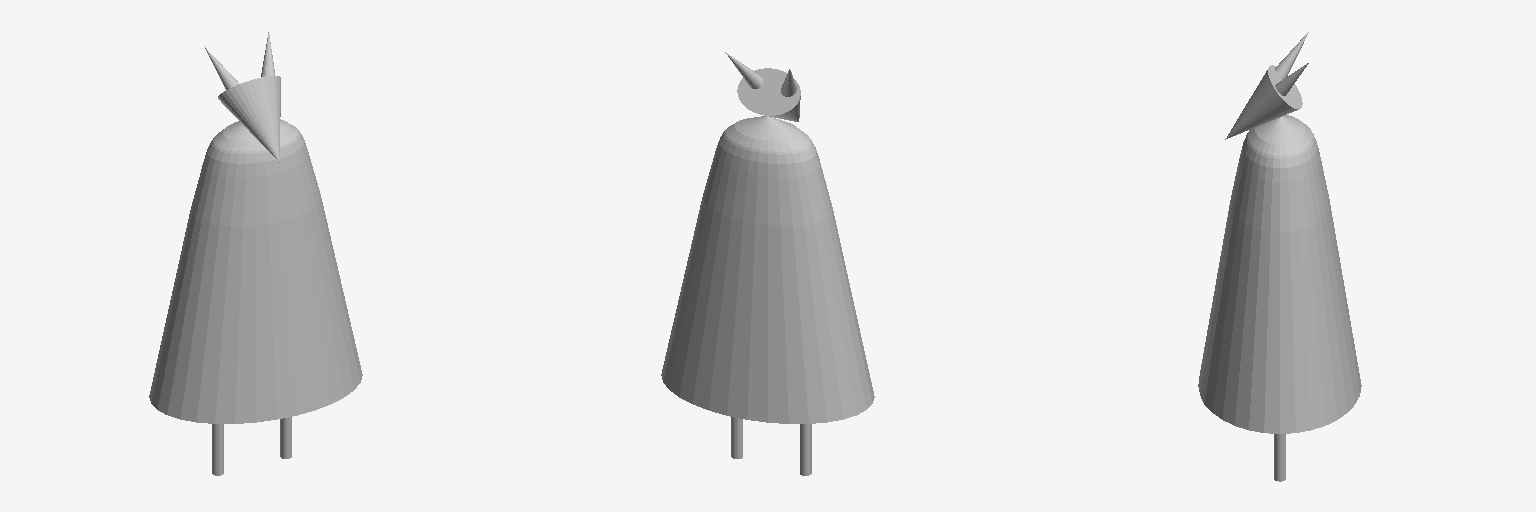
Rendered from wolfstatue.obj.
3 renders of one model, left to right at view 1: azimuth 30°, elevation 25°; view 2: azimuth 150°, elevation 25°; view 3: azimuth 270°, elevation 25°, orthographic.
Visible parts, largest first — view 1: Cone.002; view 2: Cone.002; view 3: Cone.002.
Boxes of the visible parts, x1,y1,x2,y2 form: Cone.002: [149, 32, 362, 475]; Cone.002: [661, 52, 874, 475]; Cone.002: [1198, 32, 1361, 481].
Bounding box in the file's own units: 1.93 × 3.89 × 1.38.